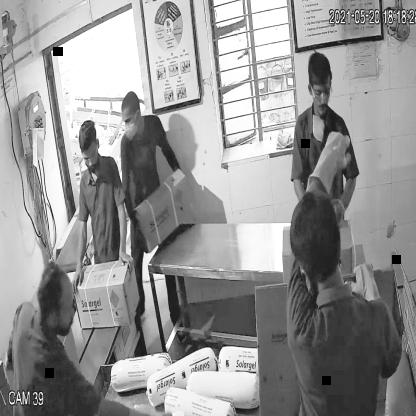goggles: (308, 81, 335, 103), (81, 148, 102, 167)
no_goggles: (118, 113, 142, 128)
